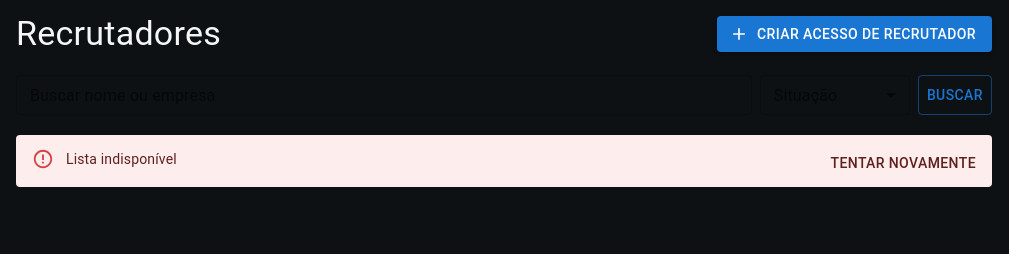
Test: AdminRecruitersView list › shows the API error and reloads on retry
The width and height of the screenshot is (1009, 254).
Expected: the text "Lista indisponível" is shown, [66,151,177,167]
Click the button "Tentar novamente".
click(903, 163)  # box [822,145,984,182]
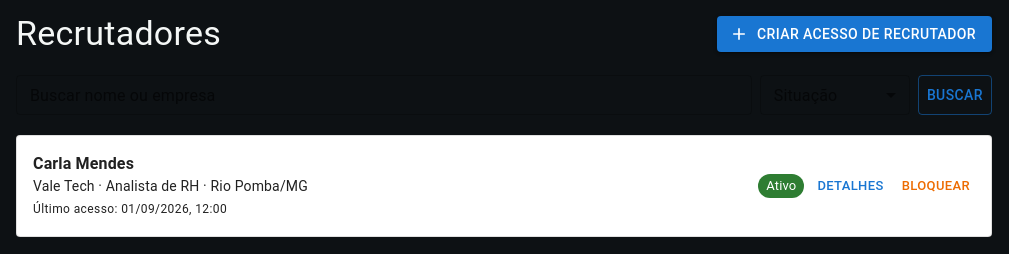
Now the text "Carla Mendes" is shown, box [33,154,134,173]
